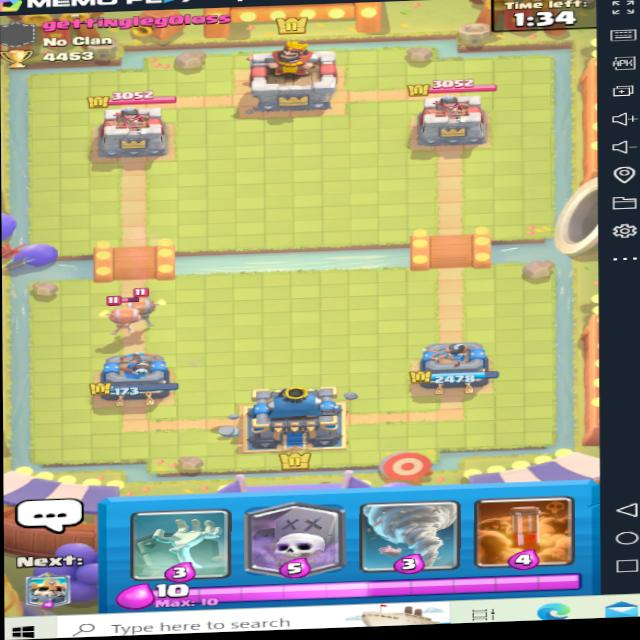Wallbreakers: (128, 285, 173, 331), (101, 291, 137, 333)
